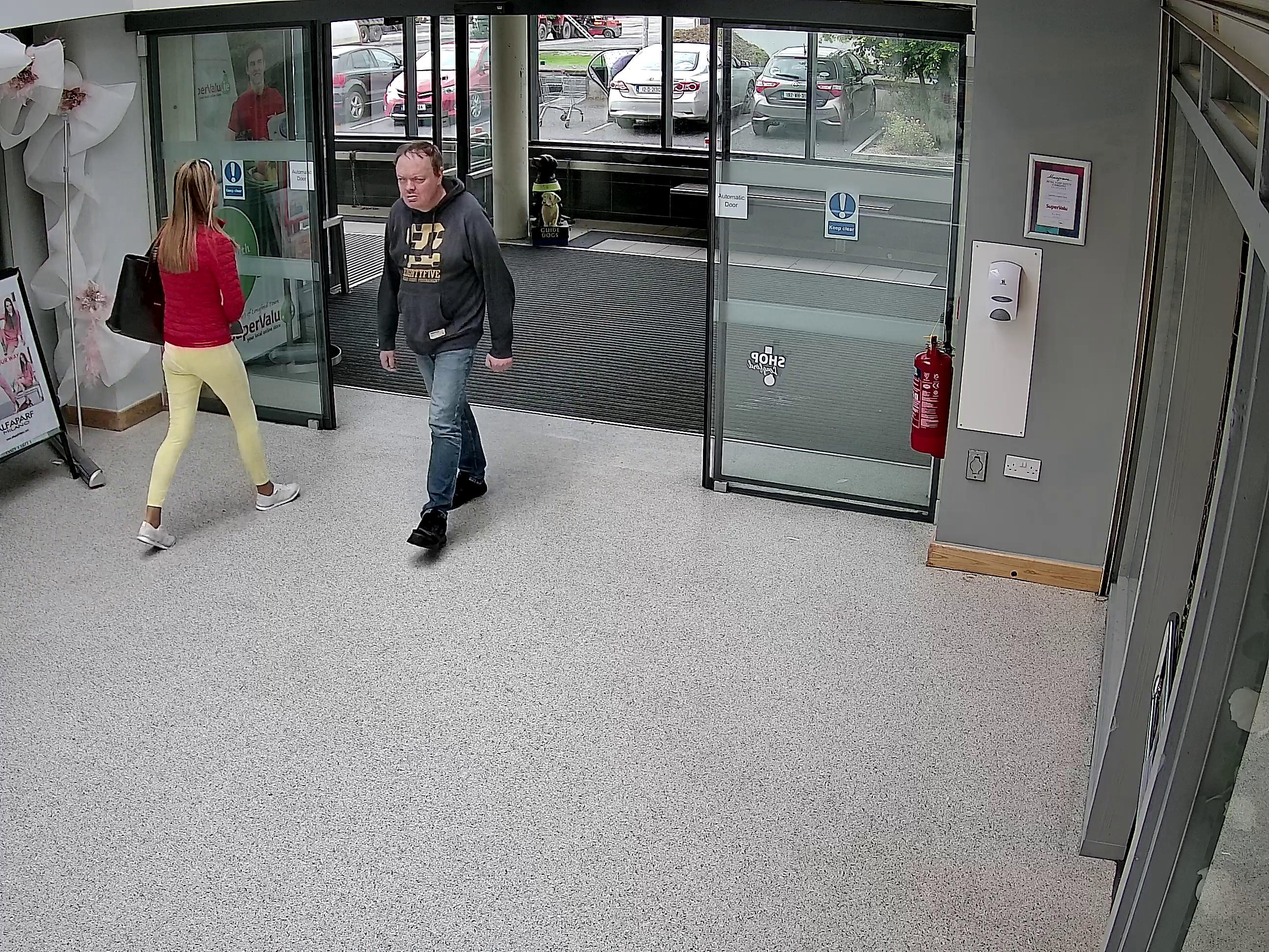backpack-or-handbag: (105, 253, 165, 347)
person: (135, 157, 302, 551)
person-with-backpack-handbag: (104, 156, 303, 551)
